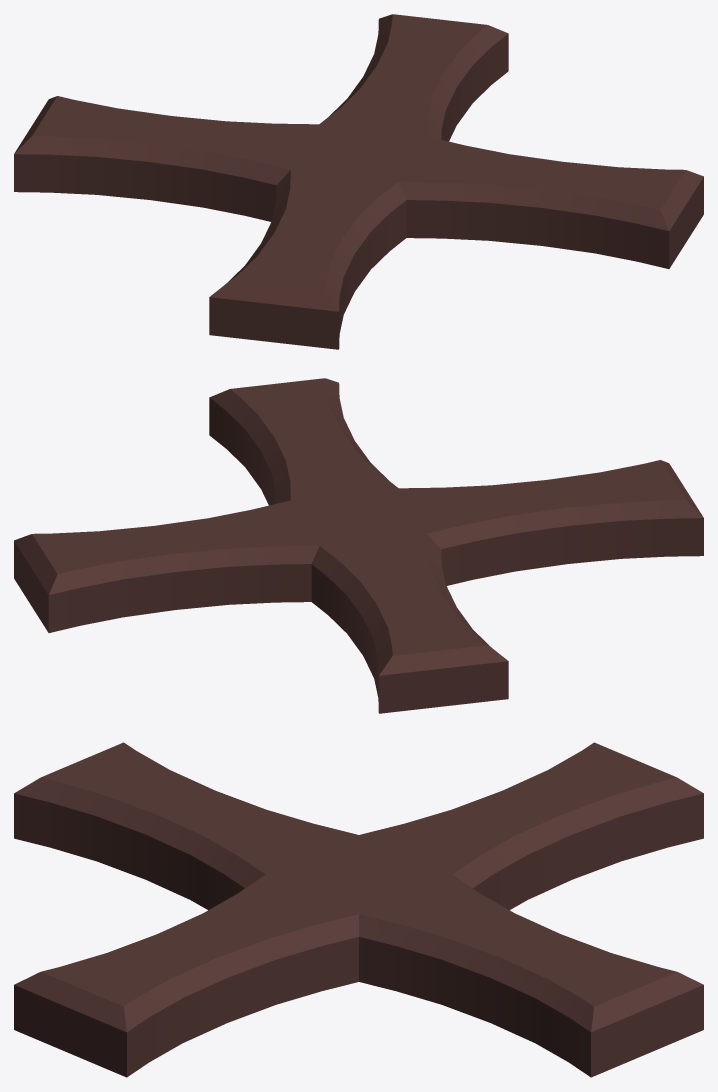
Rendered from quaternius-pirate-ui-red-x.glb.
3 views of the same model, one above another, from view 1: azimuth 30°, elevation 25°; view 2: azimuth 150°, elevation 25°; view 3: azimuth 270°, elevation 25° (orthographic). The views are drawn at different scales.
Parts seen in each view (by area): view 1: UI_Red_X; view 2: UI_Red_X; view 3: UI_Red_X.
Boxes of the visible parts, x1,y1,x2,y2 form: UI_Red_X: (14, 14, 703, 349); UI_Red_X: (14, 378, 703, 713); UI_Red_X: (14, 742, 703, 1077).
Size of the model in its own units: 1.1 by 0.1064 by 1.11.
Materials: 1 (1 with a texture image).
